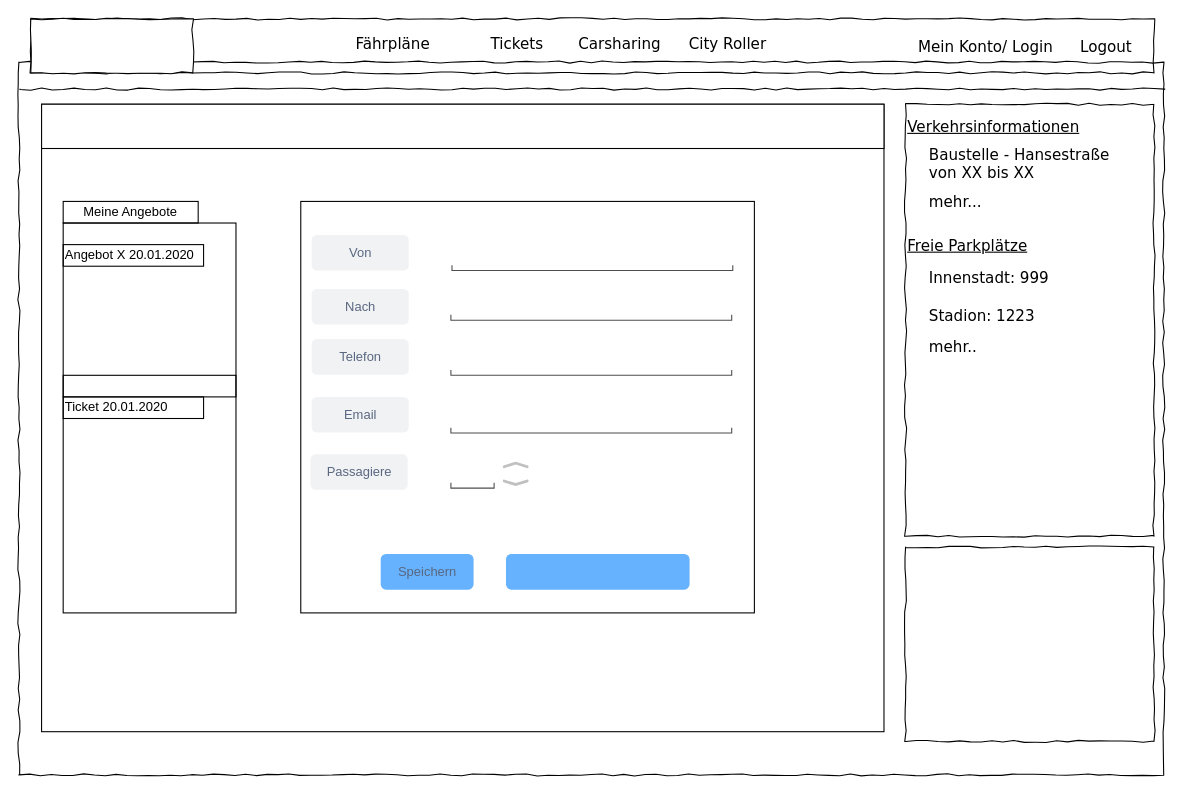
The diagram is 1184 pixels wide and 794 high, and some of its shapes have lost their labels. Each missing label, with the centre of its shape:
Carsharing Angebot erstellen: the point at 462,125
Deaktivierte Angebote: the point at 149,385
Speichern und Veröffentlichen: the point at 597,571
Werbung: the point at 1029,643
ÖPNV: the point at 111,45
